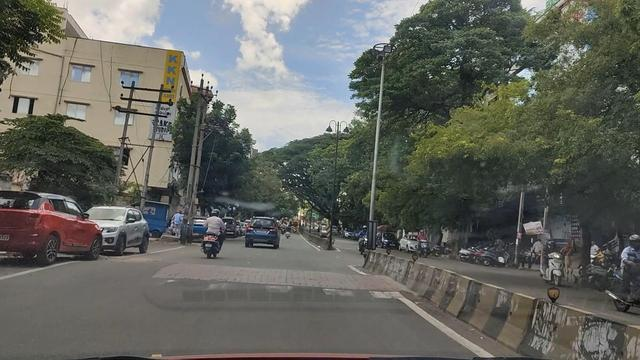LMV: (0, 184, 104, 260)
SpeedBump: (82, 250, 406, 308)
